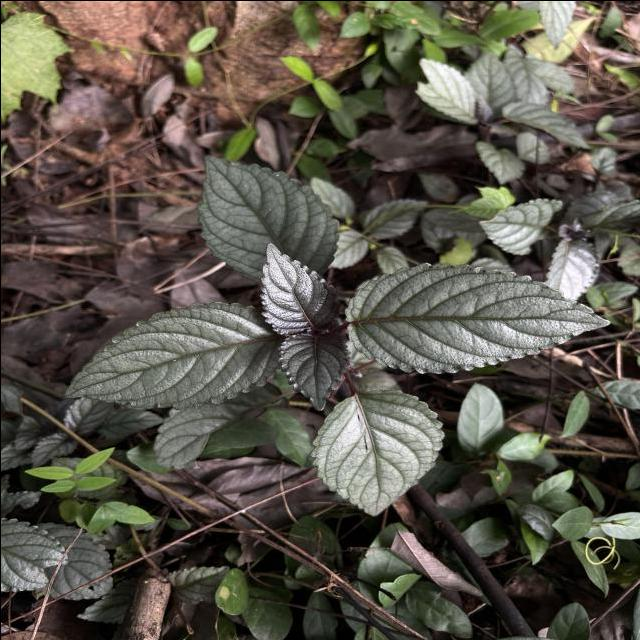Hemigraphis colorata: (338, 258, 614, 376), (58, 298, 279, 412), (192, 151, 342, 281), (306, 385, 446, 518), (254, 238, 348, 338), (273, 328, 353, 414)
